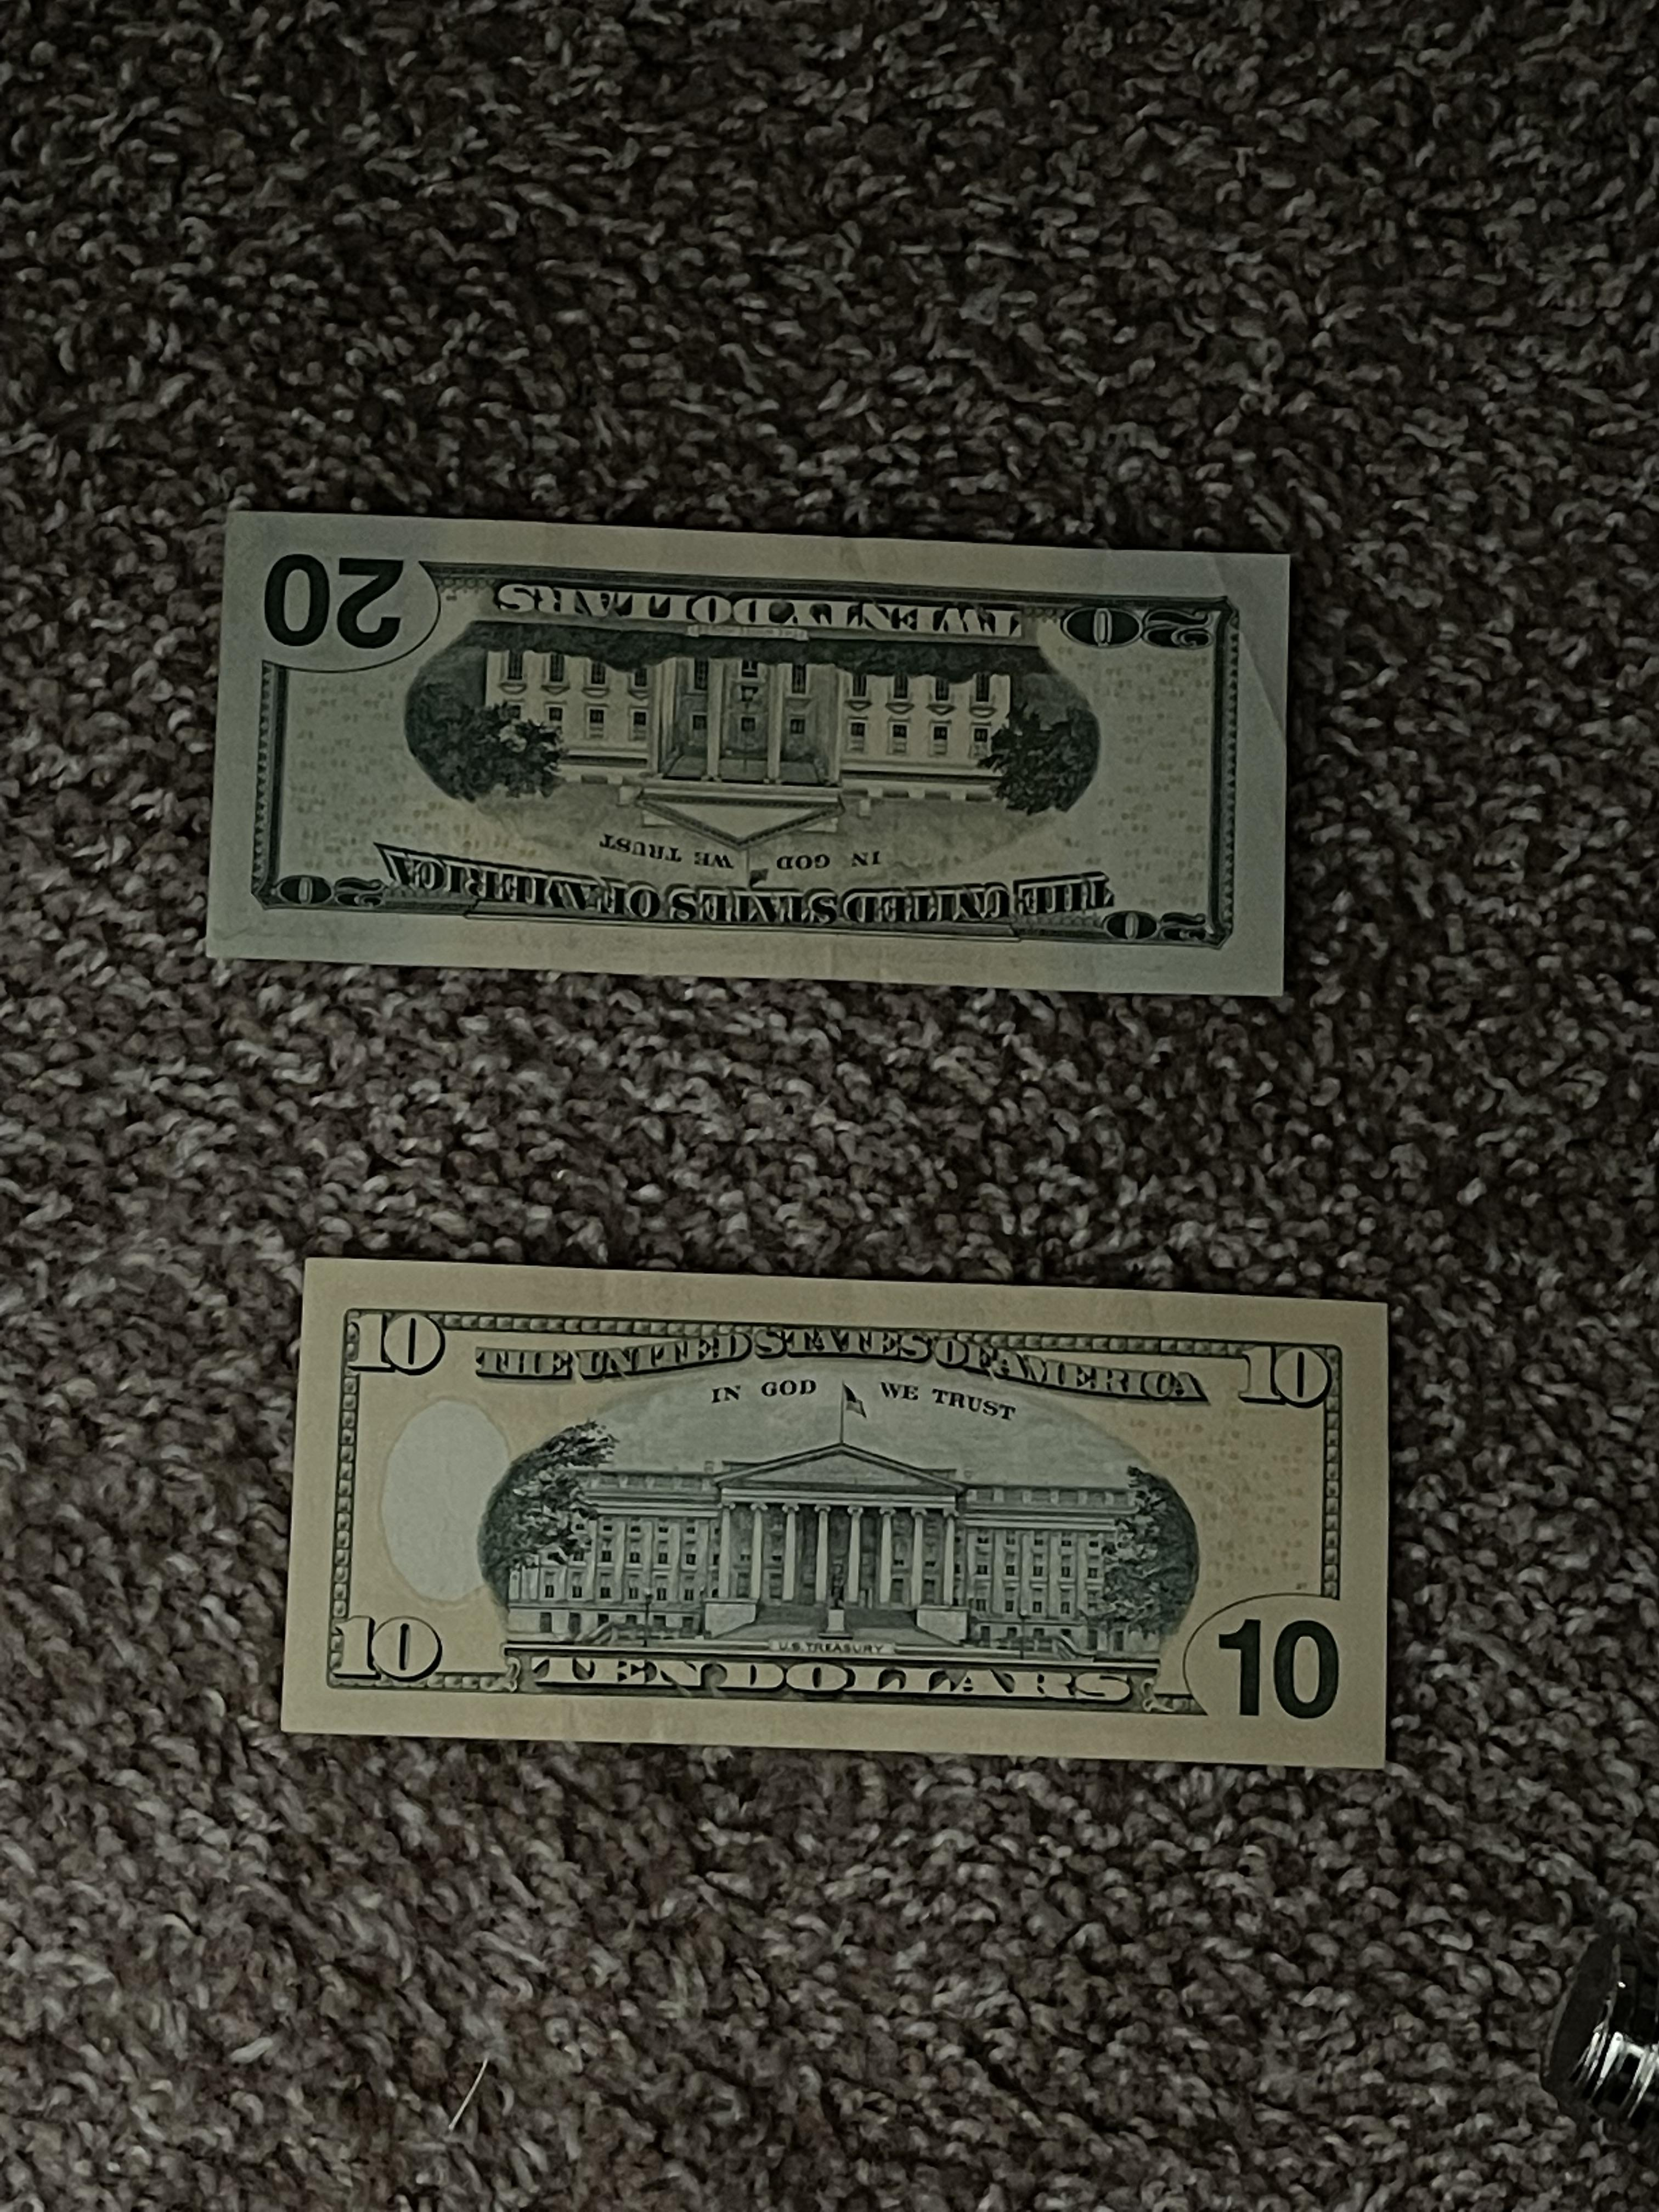TenBill: (279, 1256, 1389, 1770)
TwentyBill: (204, 505, 1293, 998)
